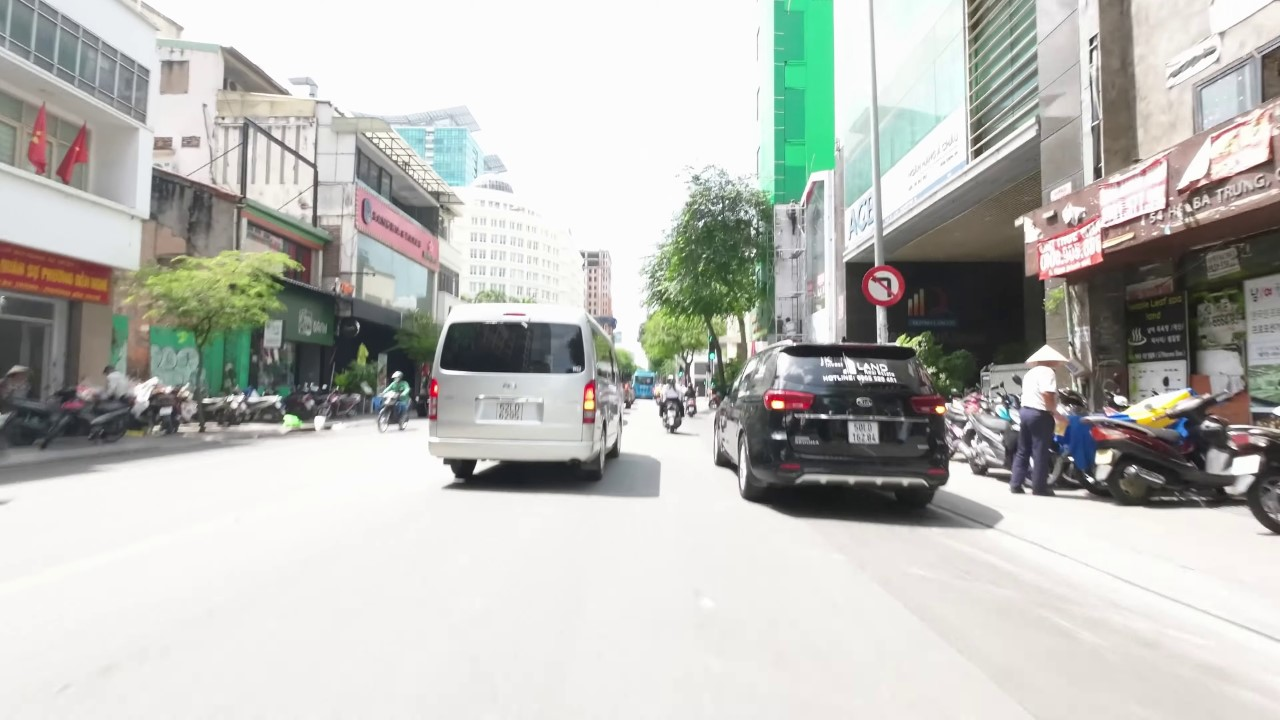cam_re_trai: (859, 260, 906, 309)
